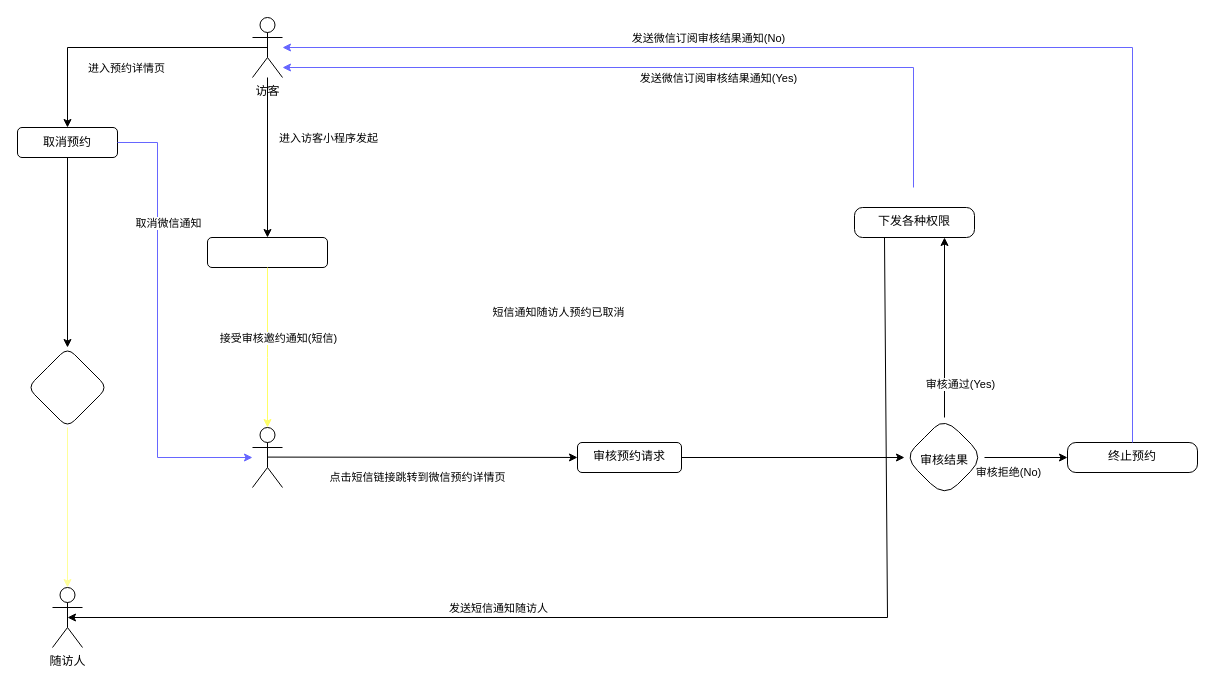
Image size: 1215x686. Some labels were removed from this diagram. Here are the shapes that lost their labels. From the top down, the centre of each, then its label:
At (x=267, y=252): "预约请求".
At (x=67, y=387): "审核通过".
At (x=267, y=457): "被访人".
